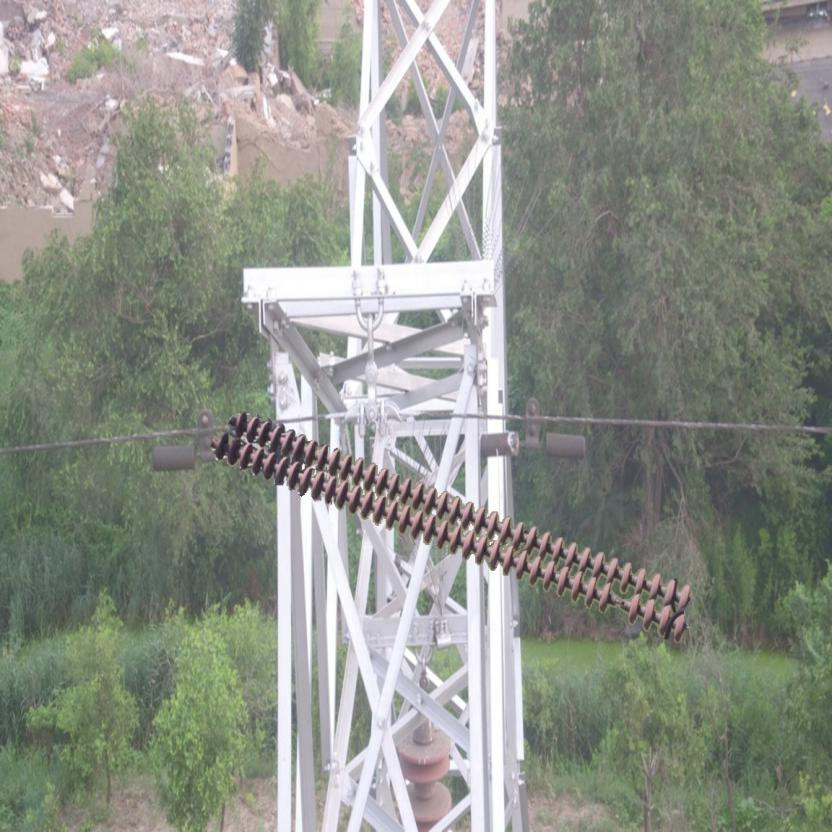defect: (594, 579, 644, 621)
